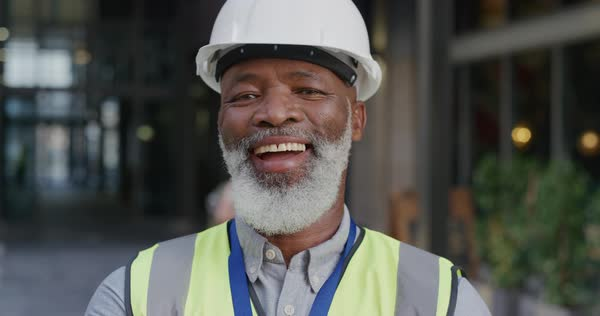Person_wearing_helmet: (189, 0, 387, 124)
